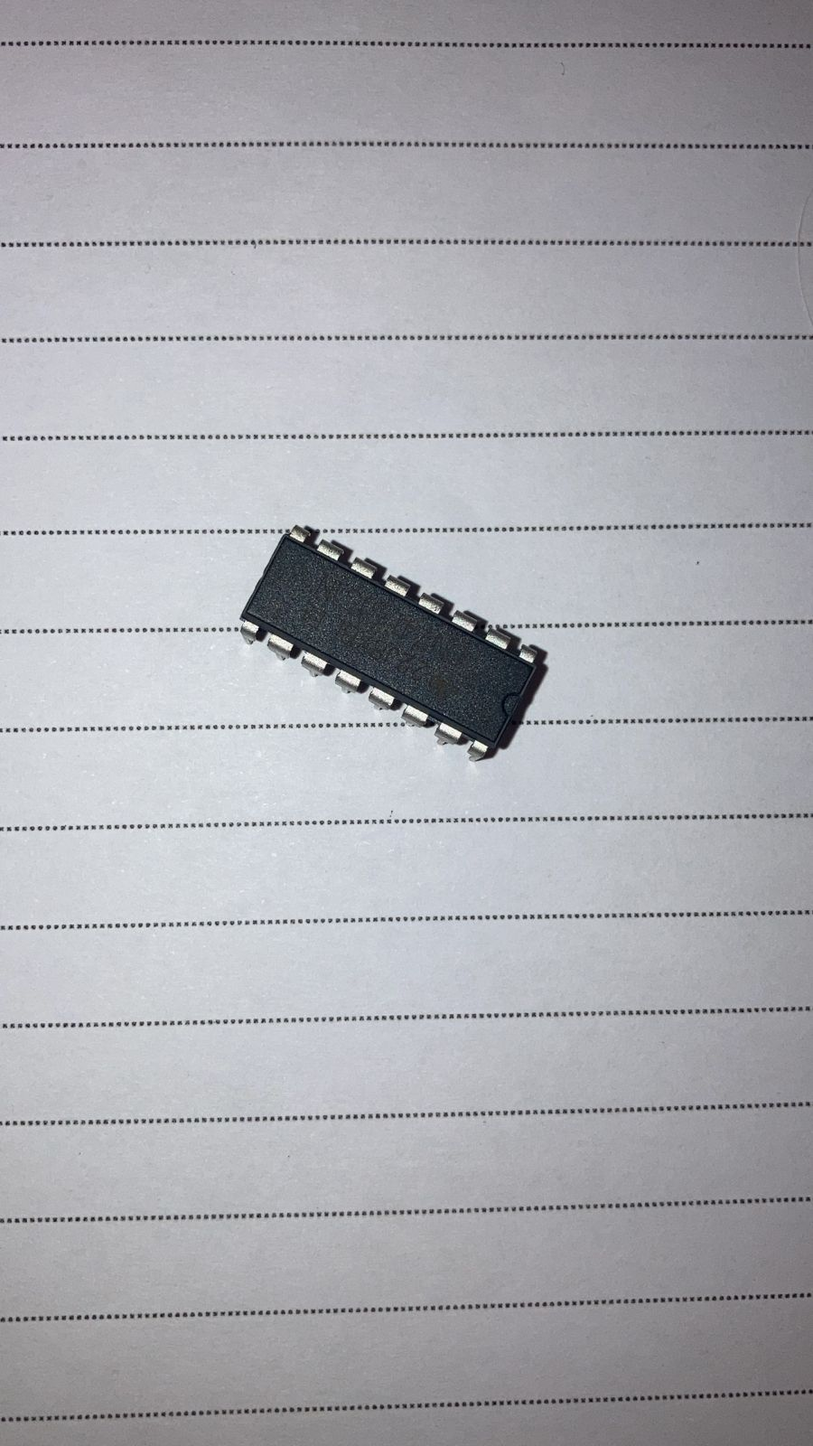IC: (221, 516, 554, 774)
notch: (499, 689, 525, 723)
